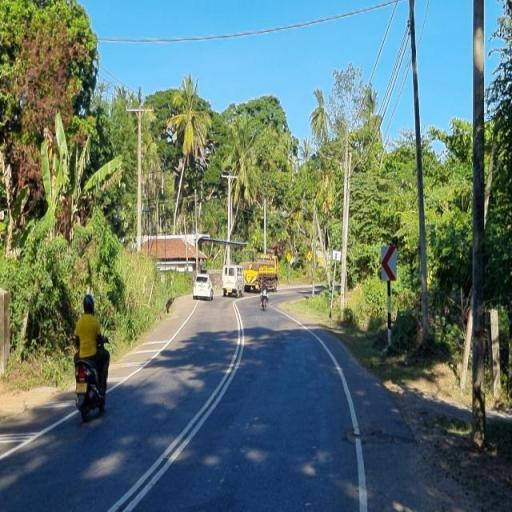double_white_line: (106, 301, 247, 510)
